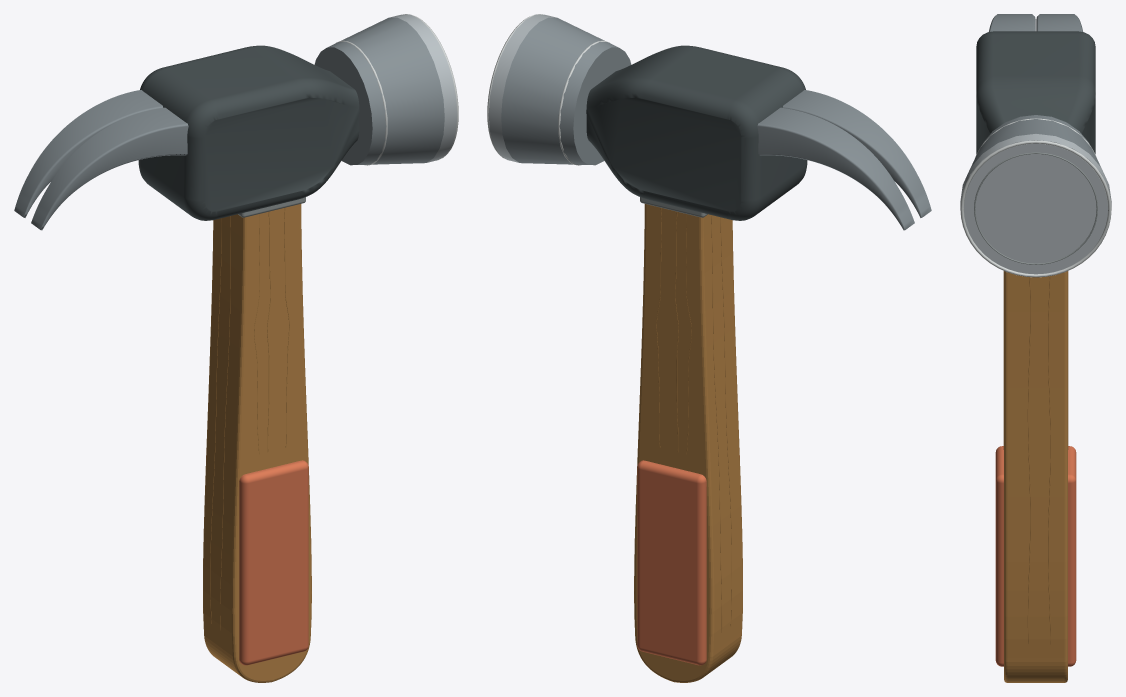
Rendered from workshop-hammer-natural-claw.glb.
3 views of the same model, side by side, from view 1: azimuth 30°, elevation 25°; view 2: azimuth 150°, elevation 25°; view 3: azimuth 270°, elevation 25° (orthographic).
Visible parts, largest first — view 1: Wood_Handle, steelInset, Grip_Front, steel, Claw Back, Claw Front, steelEdge; view 2: Wood_Handle, steelInset, Grip_Back, steel, Claw Front, Claw Back, steelEdge; view 3: Wood_Handle, steelEdge, steelInset, steel, Grip_Front, Grip_Back, Polished_Striking_Rim, Claw Front, Claw Back, Machined_Face_Groove, Side_Wood_Right_5, Side_Wood_Right_2.
Boxes of the visible parts, left/top/right/bottom form: Wood_Handle: left=203, top=204, right=311, bottom=682; steelInset: left=138, top=45, right=359, bottom=220; Grip_Front: left=239, top=460, right=308, bottom=665; steel: left=314, top=17, right=444, bottom=165; Claw Back: left=31, top=107, right=188, bottom=230; Claw Front: left=14, top=90, right=163, bottom=217; steelEdge: left=390, top=14, right=457, bottom=162; Wood_Handle: left=634, top=204, right=742, bottom=682; steelInset: left=586, top=45, right=807, bottom=220; Grip_Back: left=637, top=460, right=706, bottom=665; steel: left=501, top=17, right=631, bottom=165; Claw Front: left=757, top=107, right=914, bottom=230; Claw Back: left=782, top=90, right=931, bottom=217; steelEdge: left=488, top=14, right=555, bottom=162; Wood_Handle: left=1004, top=271, right=1067, bottom=682; steelEdge: left=960, top=134, right=1111, bottom=274; steelInset: left=976, top=31, right=1095, bottom=153; steel: left=971, top=115, right=1100, bottom=166; Grip_Front: left=995, top=446, right=1003, bottom=666; Grip_Back: left=1068, top=446, right=1076, bottom=666; Polished_Striking_Rim: left=960, top=140, right=1111, bottom=277; Claw Front: left=1036, top=14, right=1082, bottom=31; Claw Back: left=989, top=14, right=1035, bottom=31; Machined_Face_Groove: left=974, top=152, right=1097, bottom=264; Side_Wood_Right_5: left=1027, top=277, right=1030, bottom=644; Side_Wood_Right_2: left=1048, top=276, right=1050, bottom=644.
Bounding box in the file's own units: 0.2737 × 0.4061 × 0.0902.
